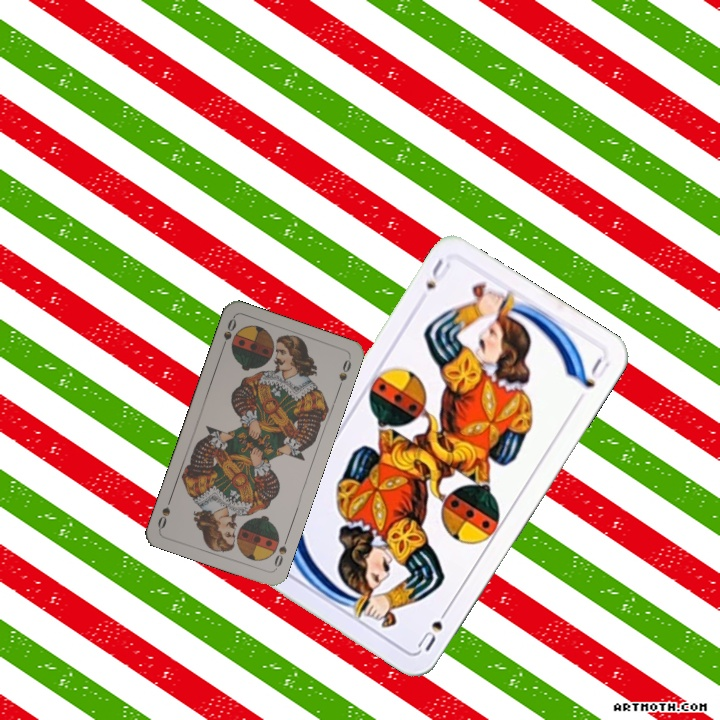SO: (217, 314, 239, 353), (270, 533, 291, 572)
SU: (413, 601, 454, 654), (422, 254, 454, 293)
